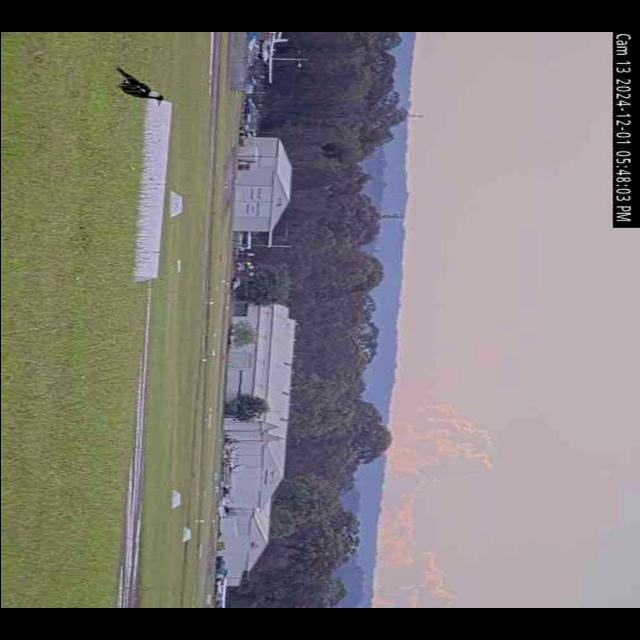Birds-Other: (107, 66, 169, 108)
